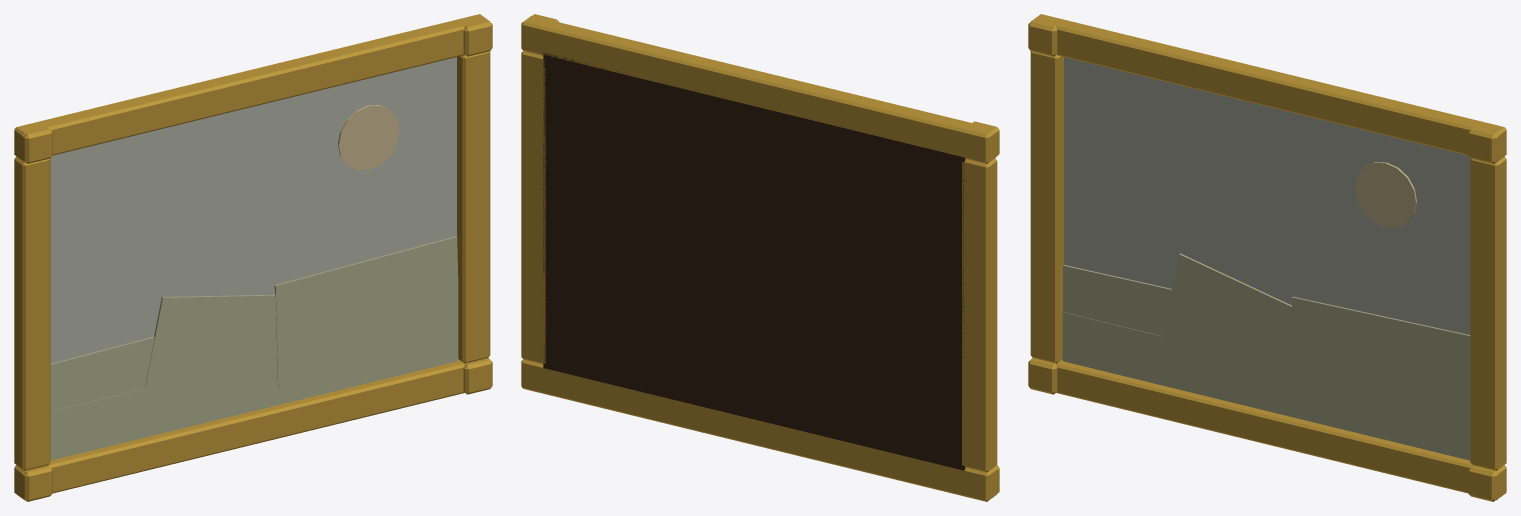
Rendered from Prop_Gal_LivingFrame_Faded.glb.
3 renders of one model, left to right at view 1: azimuth 30°, elevation 25°; view 2: azimuth 150°, elevation 25°; view 3: azimuth 330°, elevation 25°, orthographic.
Parts seen in each view (by area): view 1: Prop_Gal_LivingFrame_Faded_Canvas, Prop_Gal_LivingFrame_Faded; view 2: Prop_Gal_LivingFrame_Faded; view 3: Prop_Gal_LivingFrame_Faded_Canvas, Prop_Gal_LivingFrame_Faded.
Part boxes in pixels (left/top/right/bottom): Prop_Gal_LivingFrame_Faded_Canvas: left=50, top=57, right=458, bottom=460; Prop_Gal_LivingFrame_Faded: left=14, top=14, right=492, bottom=501; Prop_Gal_LivingFrame_Faded: left=521, top=14, right=999, bottom=501; Prop_Gal_LivingFrame_Faded_Canvas: left=1062, top=57, right=1470, bottom=460; Prop_Gal_LivingFrame_Faded: left=1028, top=14, right=1506, bottom=501.
Size of what is drawn, in the model's own units: 2 by 1.5 by 0.1.
